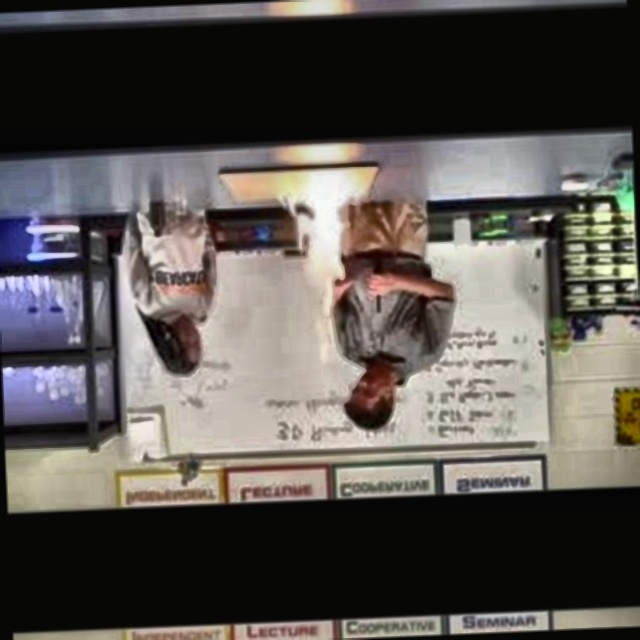fire: (273, 156, 365, 331)
